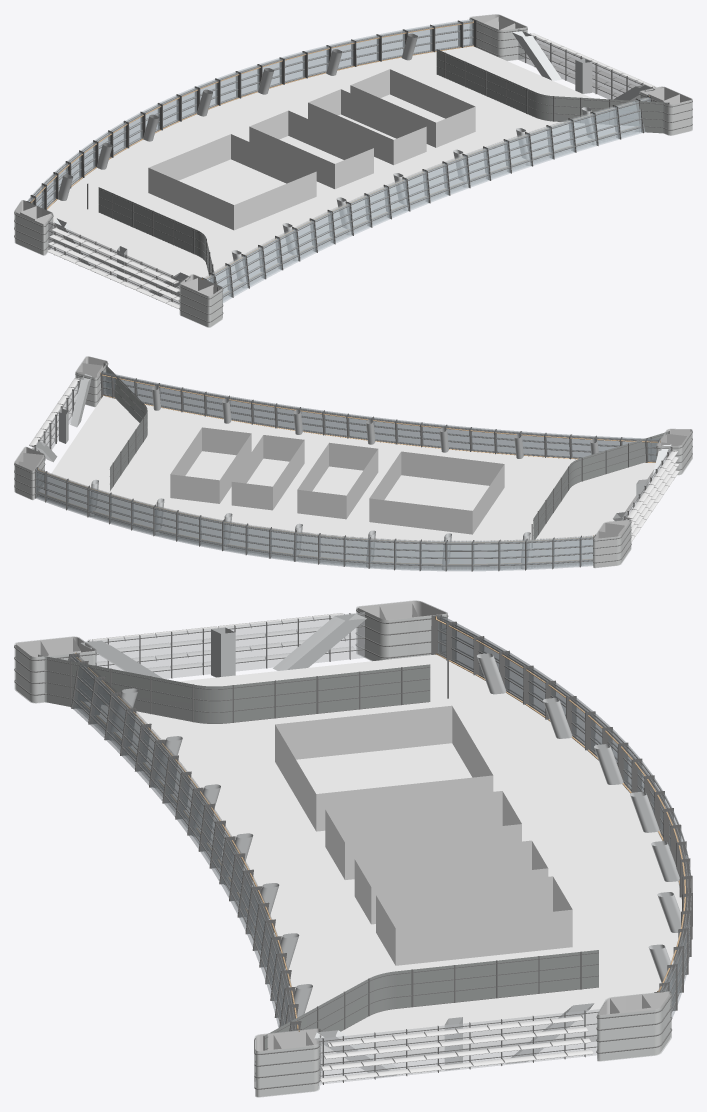
3 views of the same model, one above another, from view 1: azimuth 30°, elevation 25°; view 2: azimuth 150°, elevation 25°; view 3: azimuth 270°, elevation 25° (orthographic). The views are drawn at different scales.
Parts seen in each view (by area): view 1: floor.020; view 2: floor.020; view 3: floor.020.
Part boxes in pixels (<box>): floor.020: <box>14,14,692,327</box>; floor.020: <box>14,356,692,571</box>; floor.020: <box>14,600,692,1097</box>.
Size of the model in its own units: 81.88 by 3.88 by 52.01.
Materials: 14 (1 with a texture image).
